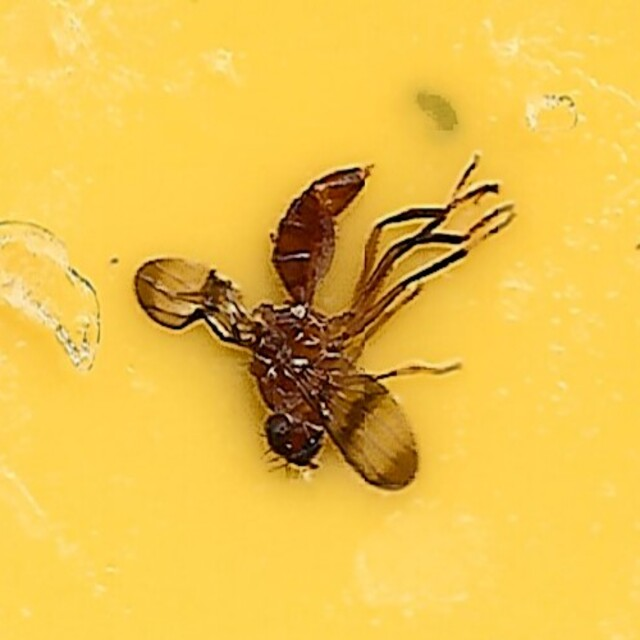Brachycera: (128, 155, 512, 485)
